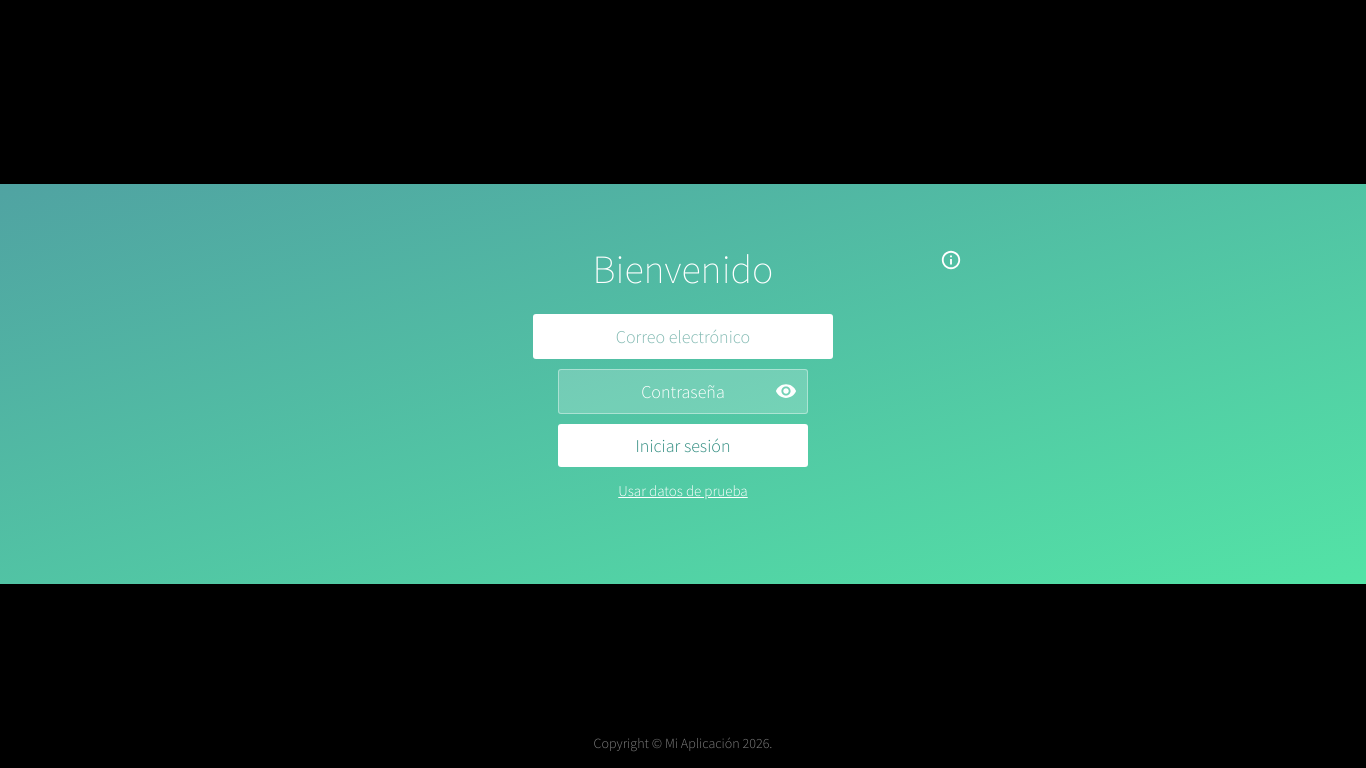
Test: Flujo de login › RF-02: el tooltip muestra las credenciales de prueba
The image size is (1366, 768).
Hover over the button named "ver datos de prueba": (951, 260) [935,244,967,276]
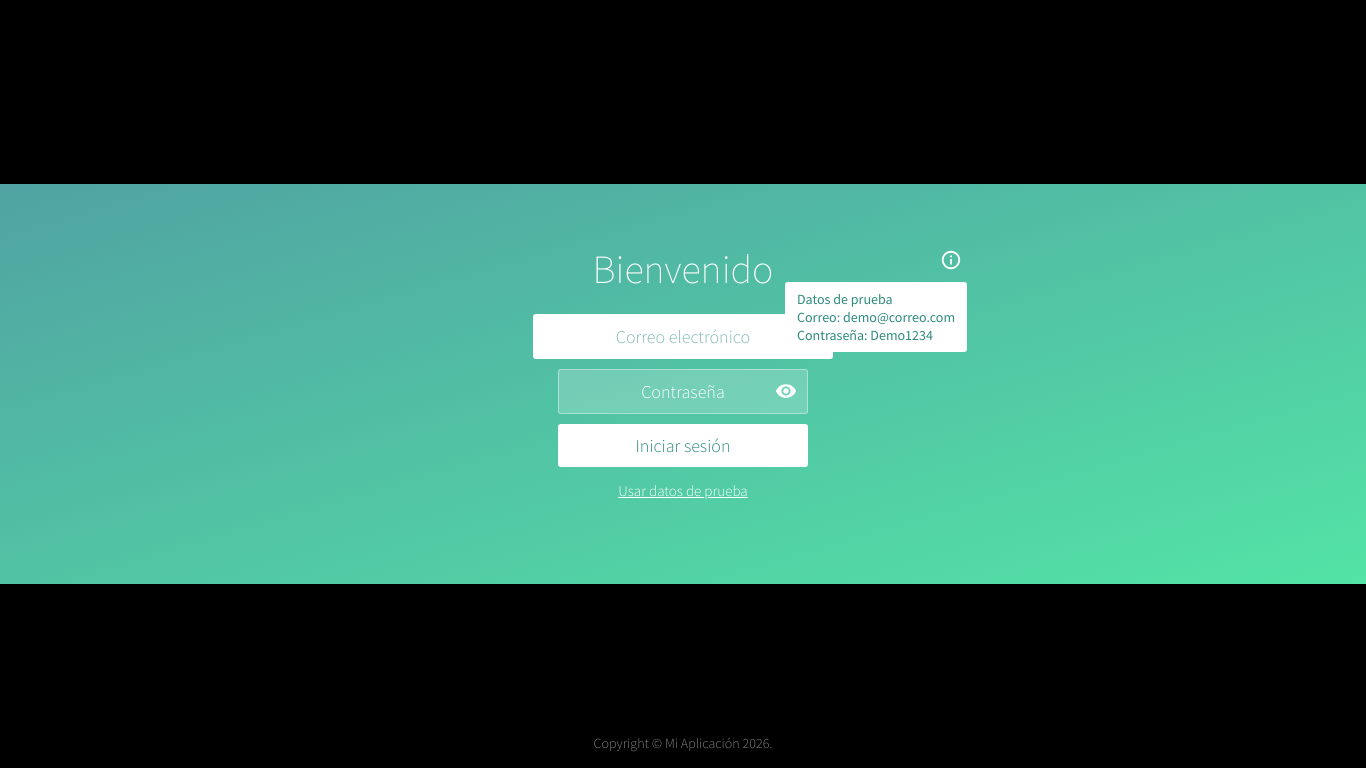
expect the text "Correo: demo@correo.com" is shown: met, box [797,308,955,326]
expect the text "Contraseña: Demo1234" is shown: met, box [797,326,955,344]
